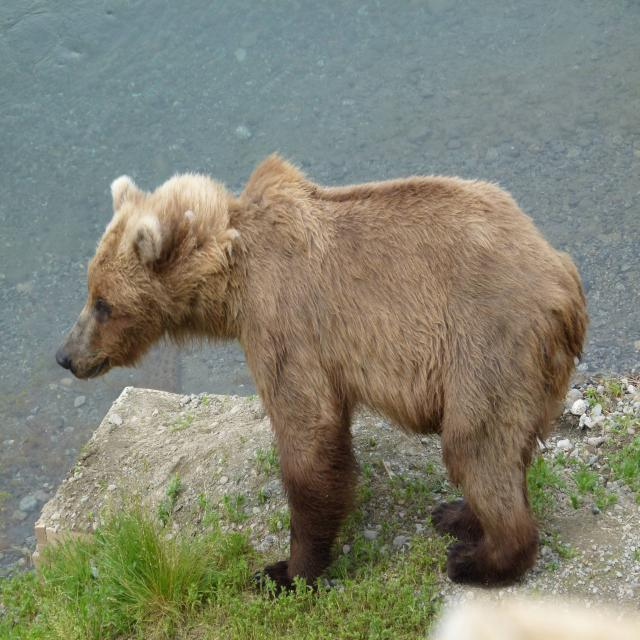bear face: (57, 156, 582, 586)
